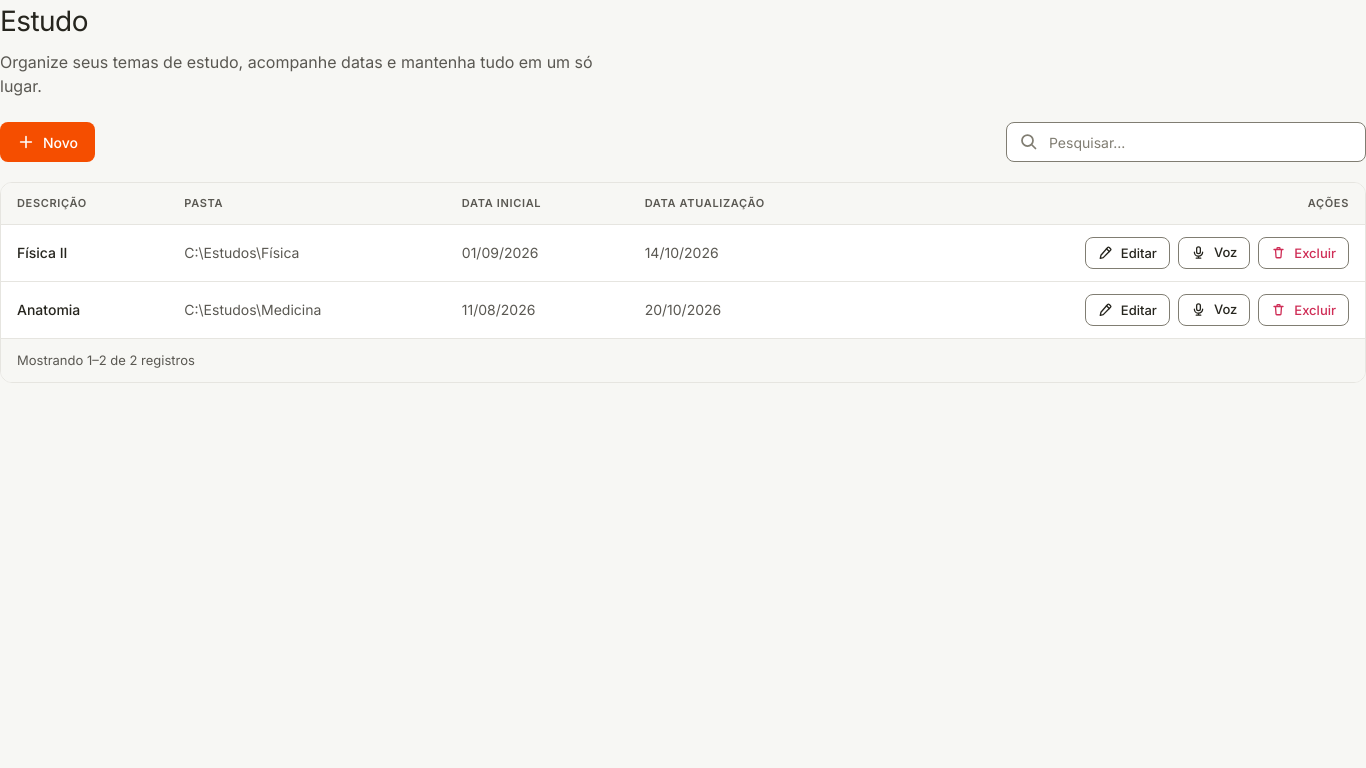
StudyView: desfazer exclusão › quando a pasta já está em uso, o toast mostra a mensagem da restauração
Click the button with aria-label "Excluir registro" at (1304, 252), box [1258, 236, 1349, 268]
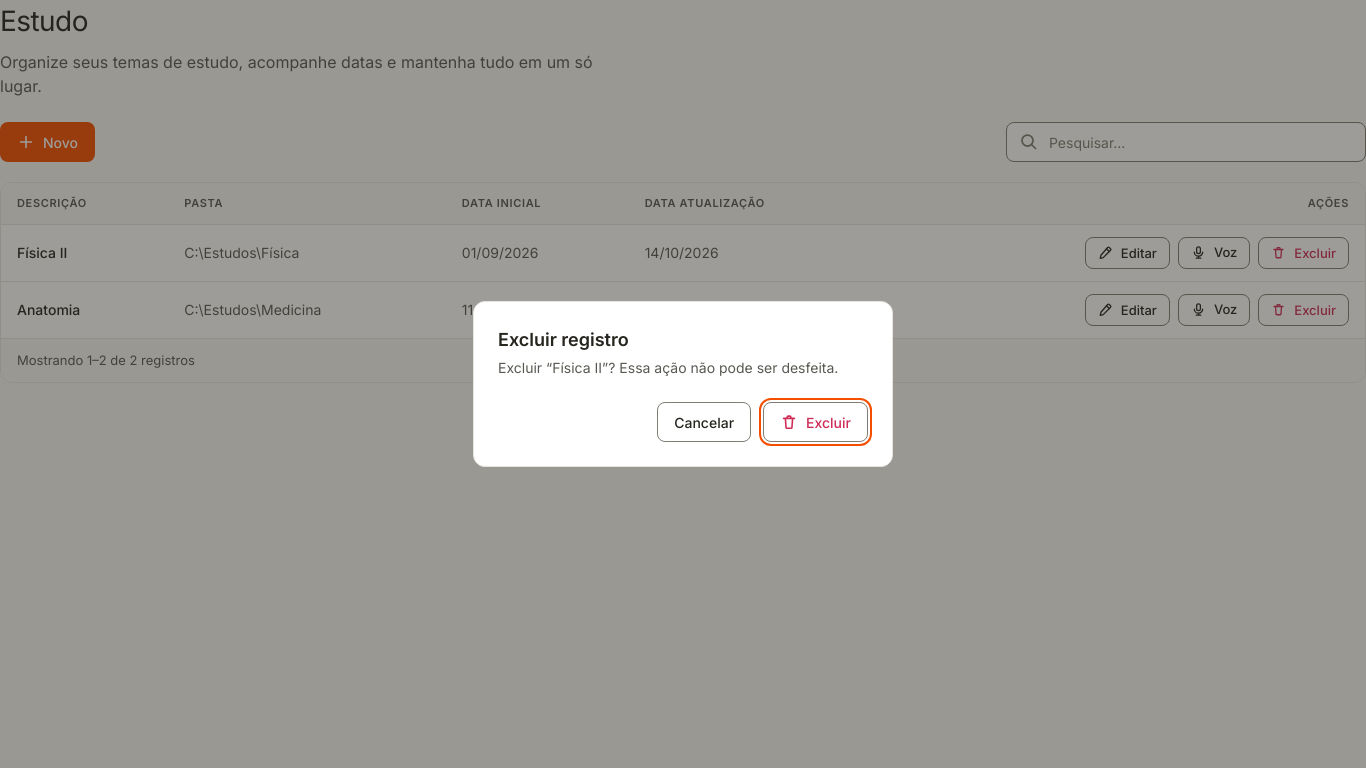
Click the button "Excluir" at (816, 422), box [763, 402, 868, 442]
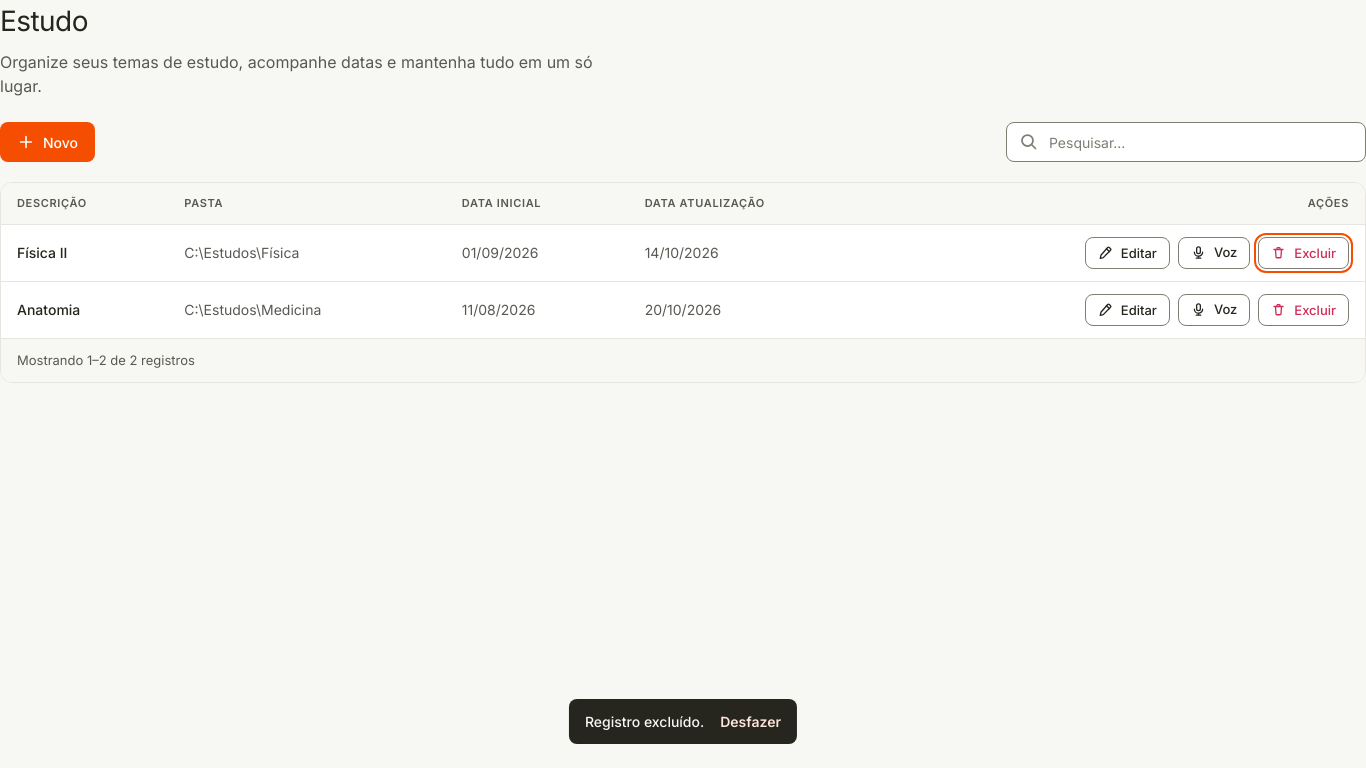
Click the button "Desfazer" at (751, 722), box [720, 713, 781, 730]
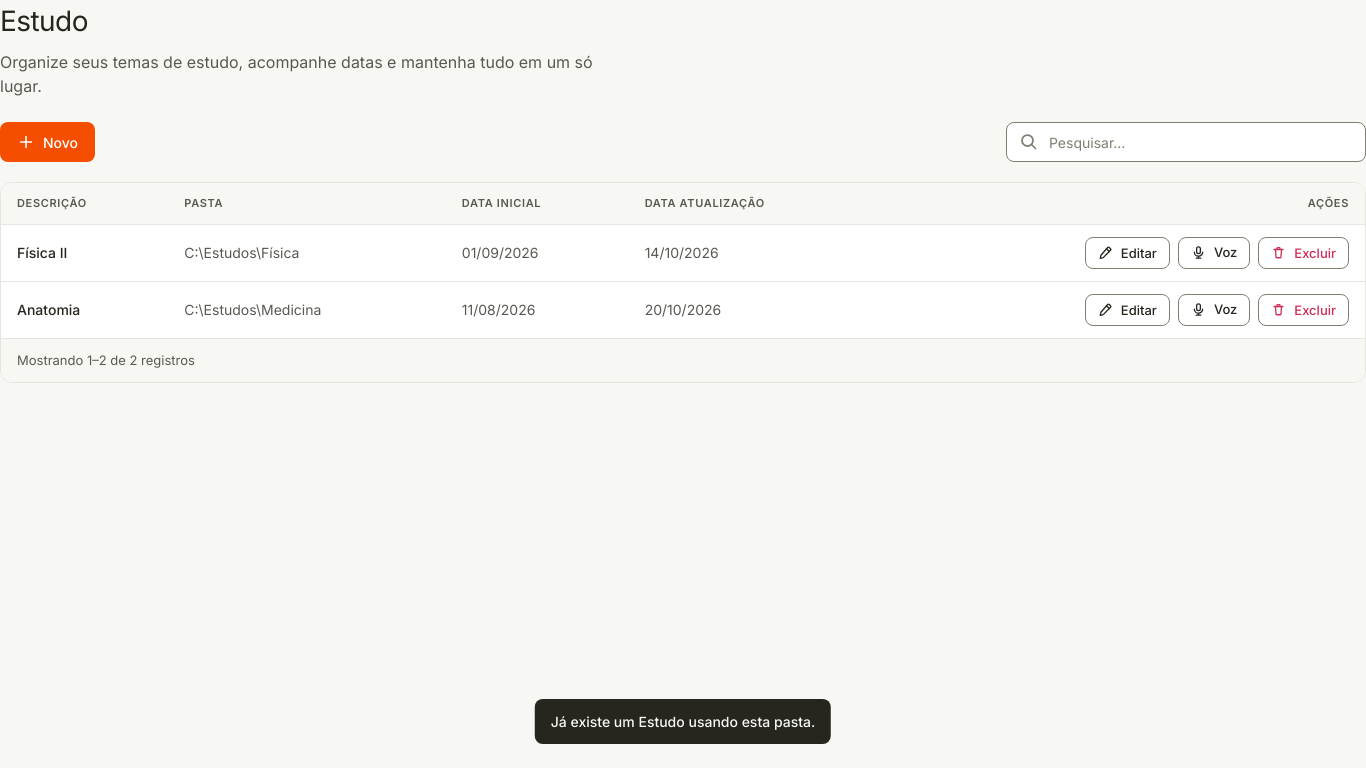
expect the message reads "Já existe um Estudo usando esta pasta.": met, box [551, 713, 815, 730]
